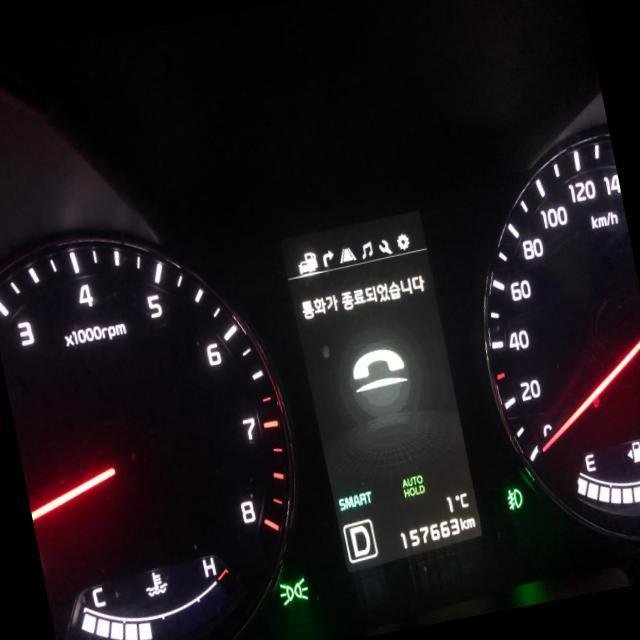FrontFogLight: (504, 484, 524, 512)
SideLamp: (276, 576, 310, 608)
